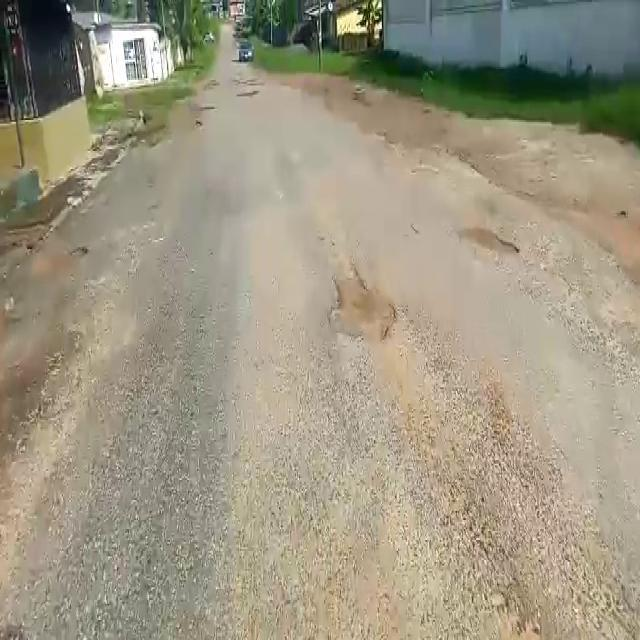pothole: (330, 267, 398, 344), (461, 220, 526, 260)
